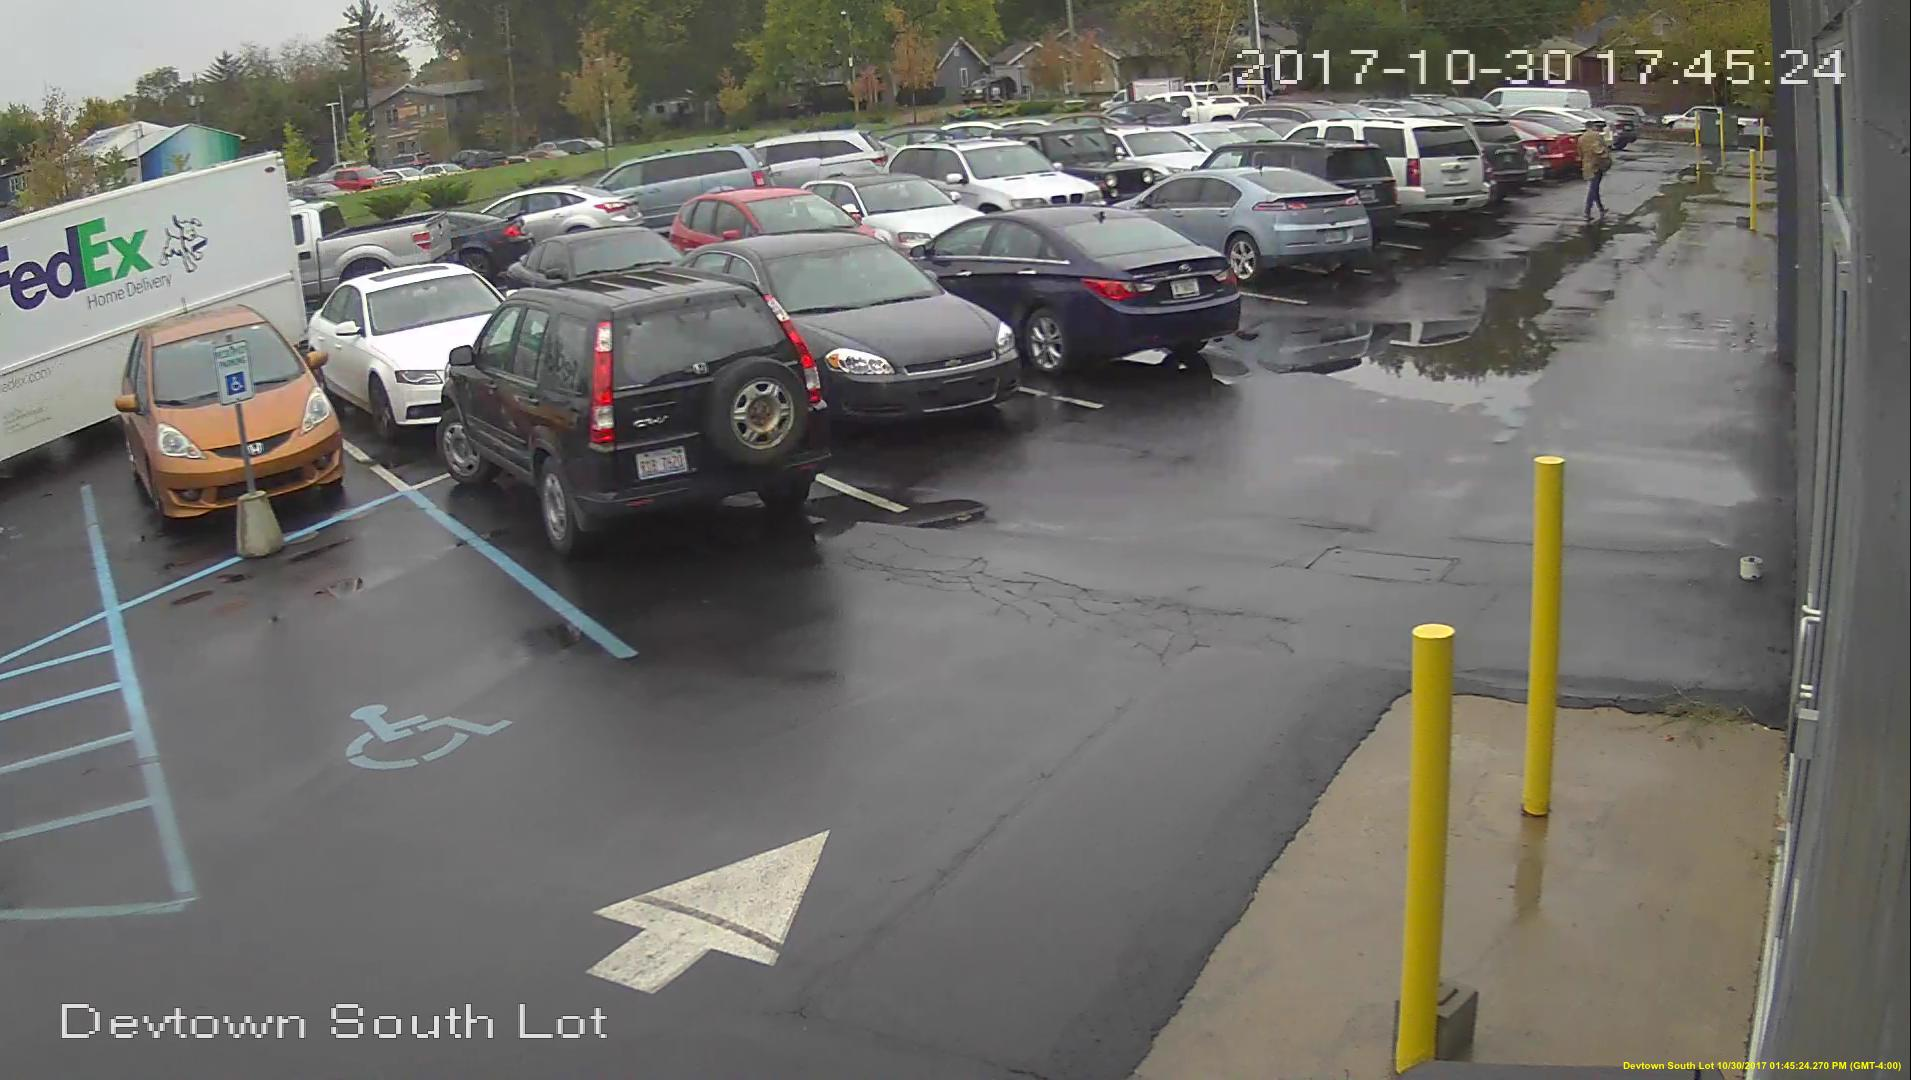fedex_truck: (1, 180, 280, 399)
